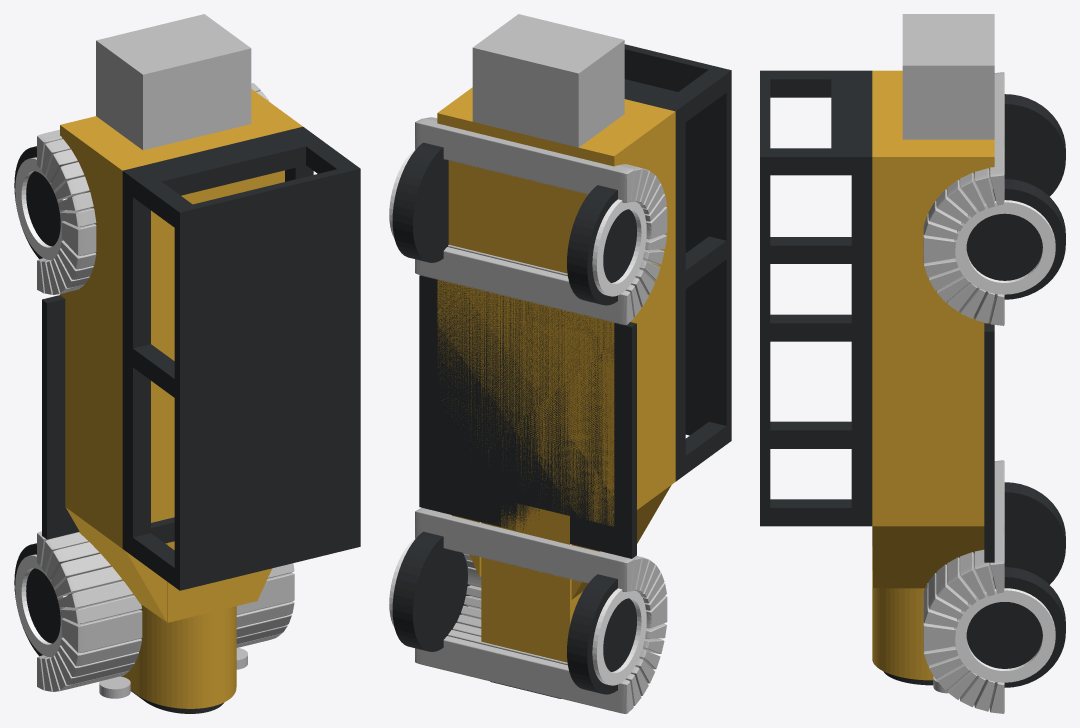
Rendered from tinkers6.obj.
3 renders of one model, left to right at view 1: azimuth 30°, elevation 25°; view 2: azimuth 150°, elevation 25°; view 3: azimuth 270°, elevation 25°, orthographic. The views are drawn at different scales.
Parts seen in each view (by area): view 1: obj_1, obj_0, obj_21, obj_23, obj_9, obj_16, obj_24, obj_8, obj_25, obj_13, obj_14, obj_28 (+8 smaller); view 2: obj_0, obj_25, obj_23, obj_24, obj_1, obj_21, obj_27, obj_15, obj_26, obj_28, obj_29, obj_14 (+8 smaller); view 3: obj_0, obj_21, obj_23, obj_24, obj_10, obj_26, obj_27, obj_12, obj_1, obj_28, obj_29, obj_16 (+10 smaller).
Part boxes in pixels (bbox=[...]): obj_1: bbox=[174, 165, 360, 590]; obj_0: bbox=[60, 89, 302, 548]; obj_21: bbox=[96, 14, 251, 150]; obj_23: bbox=[37, 531, 294, 691]; obj_9: bbox=[122, 167, 150, 554]; obj_16: bbox=[136, 604, 236, 708]; obj_24: bbox=[37, 83, 269, 294]; obj_8: bbox=[122, 126, 323, 203]; obj_25: bbox=[42, 295, 79, 539]; obj_13: bbox=[66, 508, 167, 622]; obj_14: bbox=[167, 541, 257, 622]; obj_28: bbox=[14, 543, 72, 656]; obj_0: bbox=[437, 87, 675, 526]; obj_25: bbox=[419, 275, 636, 558]; obj_23: bbox=[415, 508, 667, 713]; obj_24: bbox=[415, 117, 667, 324]; obj_1: bbox=[624, 44, 731, 443]; obj_21: bbox=[472, 14, 624, 147]; obj_27: bbox=[392, 531, 470, 651]; obj_15: bbox=[481, 578, 582, 662]; obj_26: bbox=[392, 142, 448, 262]; obj_28: bbox=[567, 574, 636, 694]; obj_29: bbox=[567, 185, 636, 305]; obj_14: bbox=[481, 503, 571, 599]; obj_0: bbox=[872, 70, 994, 526]; obj_21: bbox=[902, 14, 994, 139]; obj_23: bbox=[923, 460, 1004, 713]; obj_24: bbox=[923, 72, 1004, 325]; obj_10: bbox=[851, 148, 872, 526]; obj_26: bbox=[966, 179, 1065, 299]; obj_27: bbox=[966, 567, 1065, 687]; obj_12: bbox=[872, 526, 984, 588]; obj_1: bbox=[760, 70, 770, 526]; obj_28: bbox=[1004, 482, 1065, 584]; obj_29: bbox=[1004, 94, 1065, 196]; obj_16: bbox=[872, 588, 933, 680].
Size of the model in its own units: 24 by 68 by 30.
